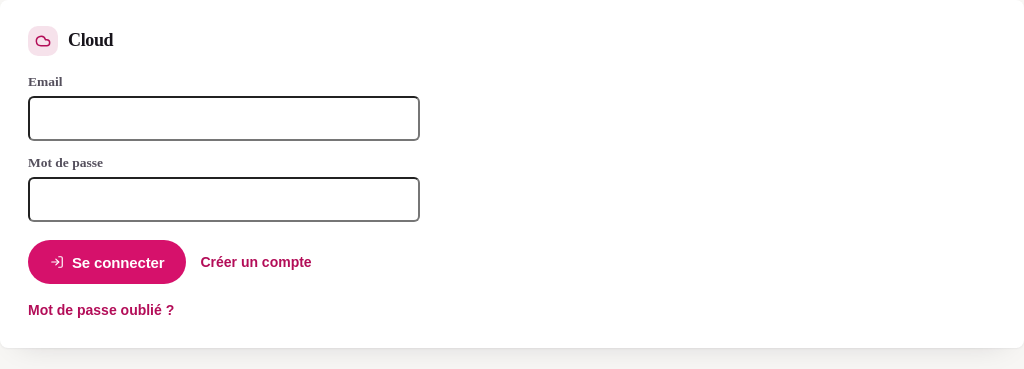
Test: CloudAccountPanel — création de compte puis état connecté › créer un compte affiche l'état connecté, sans historique local ni cloud
Click the button "Créer un compte" at (256, 262), box [200,250,312,274]
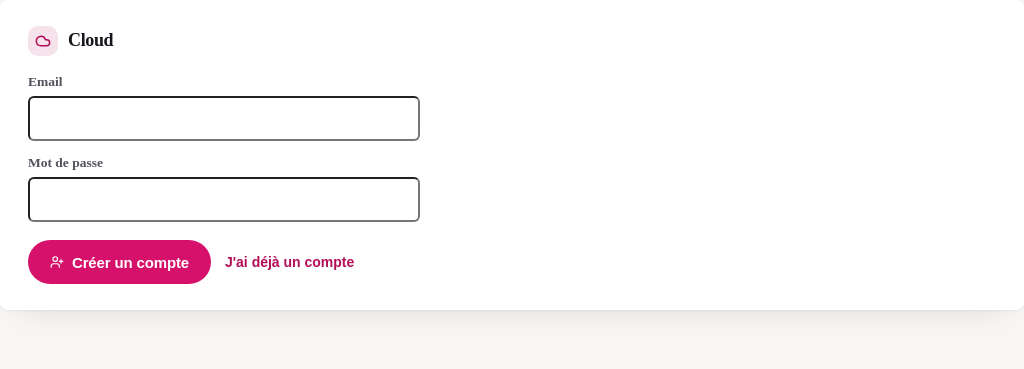
Type "a@example.com" into the field labelled "Email" at (224, 118), box [28,96,420,141]
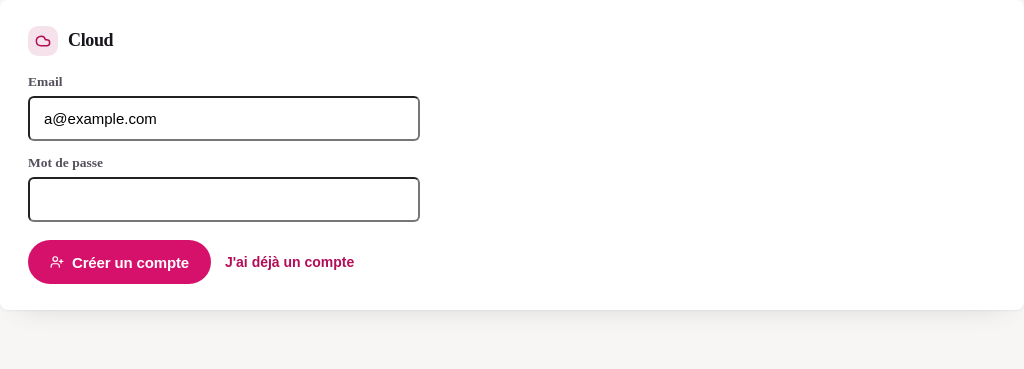
Type "password123" into the password field labelled "Mot de passe" at (224, 200), box [28,177,420,222]
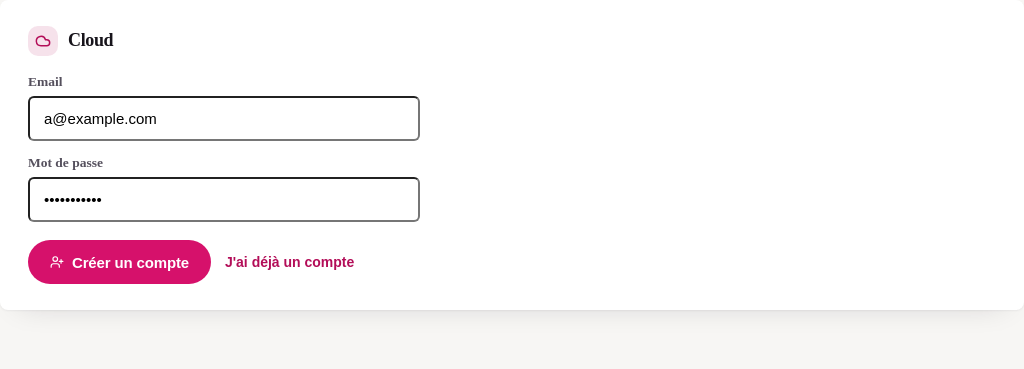
Click the button "Créer un compte" at (120, 262), box [28,240,211,284]
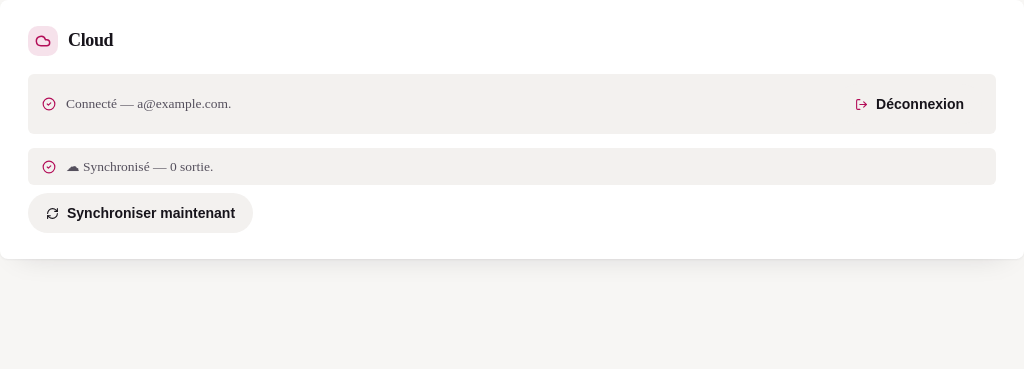
Expected: the text "Connecté — a@example.com." is shown, [66,96,231,112]
Expected: the text "☁ Synchronisé — 0 sortie." is shown, [66,158,213,175]
